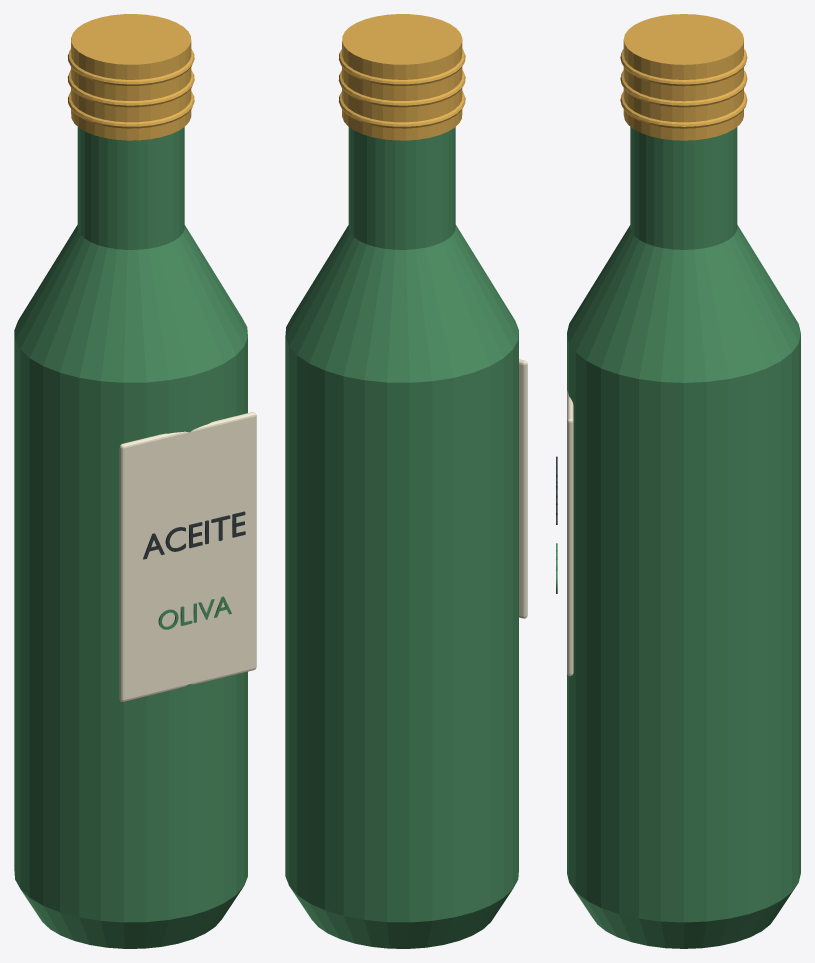
Rendered from Aceite.fbx.
3 views of the same model, side by side, from view 1: azimuth 30°, elevation 25°; view 2: azimuth 150°, elevation 25°; view 3: azimuth 270°, elevation 25° (orthographic).
Parts seen in each view (by area): view 1: Botella_hombros.001, Etiqueta.002, Tapa.002, Texto_ACEITE, Estrias_tapa.003, Estrias_tapa.004, Estrias_tapa.005, Texto_OLIVA; view 2: Botella_hombros.001, Tapa.002, Etiqueta.002, Estrias_tapa.003, Estrias_tapa.004, Estrias_tapa.005; view 3: Botella_hombros.001, Tapa.002, Etiqueta.002, Estrias_tapa.003, Estrias_tapa.004, Estrias_tapa.005.
Part boxes in pixels (x1,y1,x2,y2): Botella_hombros.001: (14, 127, 247, 948); Etiqueta.002: (119, 412, 256, 701); Tapa.002: (71, 14, 191, 140); Texto_ACEITE: (143, 511, 245, 559); Estrias_tapa.003: (68, 91, 194, 128); Estrias_tapa.004: (67, 70, 194, 107); Estrias_tapa.005: (68, 49, 194, 85); Texto_OLIVA: (158, 596, 231, 629); Botella_hombros.001: (285, 127, 518, 948); Tapa.002: (342, 14, 462, 140); Etiqueta.002: (519, 359, 527, 618); Estrias_tapa.003: (338, 91, 465, 128); Estrias_tapa.004: (338, 70, 465, 107); Estrias_tapa.005: (339, 48, 465, 85); Botella_hombros.001: (567, 127, 800, 948); Tapa.002: (623, 14, 743, 140); Etiqueta.002: (567, 390, 573, 676); Estrias_tapa.003: (620, 91, 747, 128); Estrias_tapa.004: (620, 70, 747, 107); Estrias_tapa.005: (620, 49, 747, 86).
Size of the model in its own units: 7 by 28.7 by 7.33.
